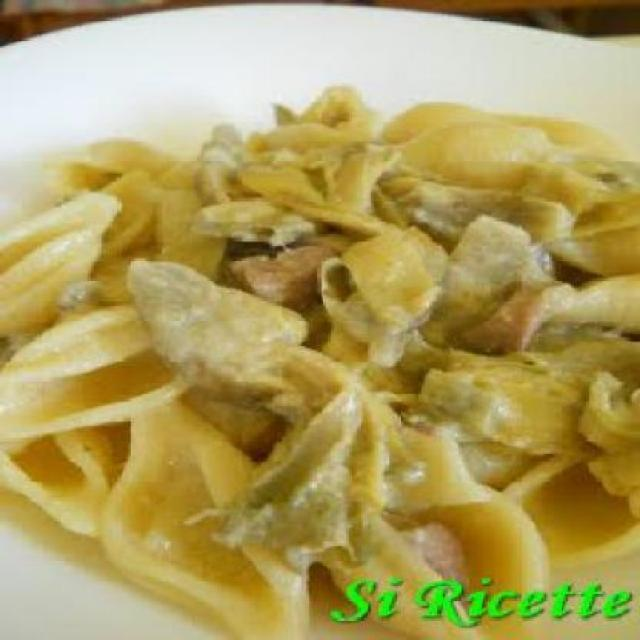Pasta al ragu: (35, 80, 638, 566)
